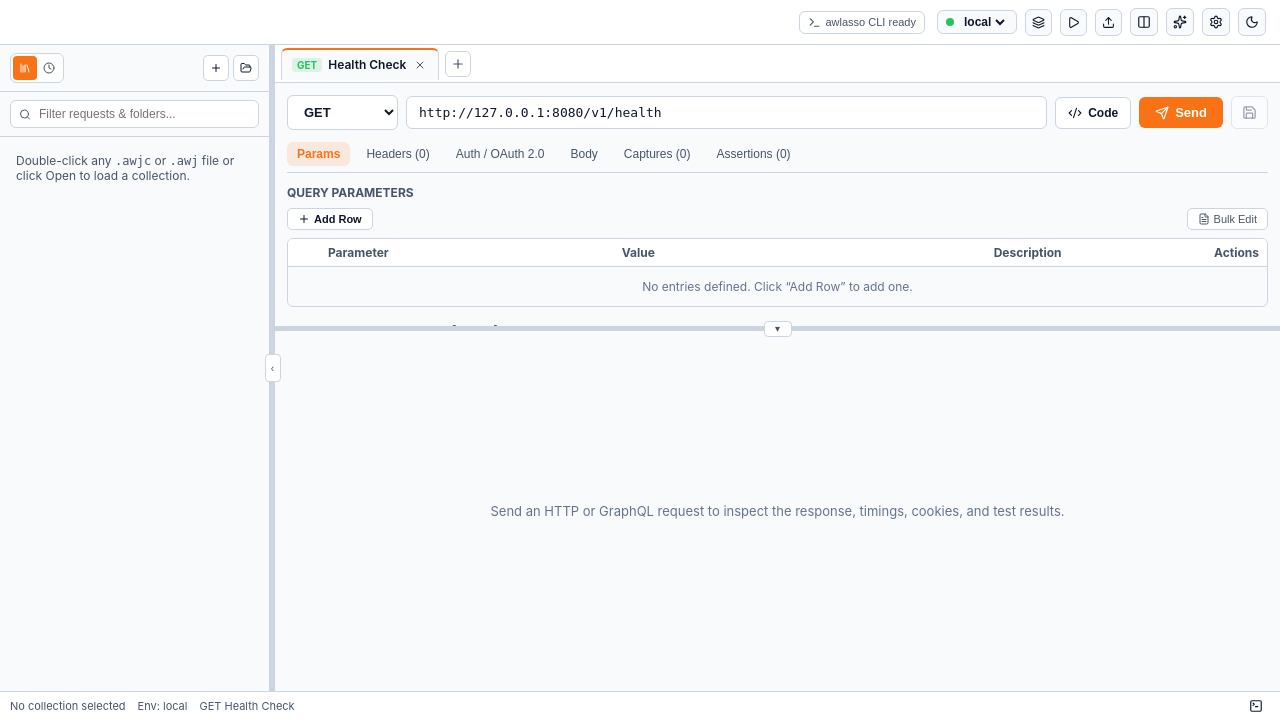
Test: App shell › opens Postman imports from the toolbar and the native menu as unsaved collections
What coordinates should you click on to do the following:
click the button with test id "toolbar-import-btn"
I would click on:
 (1108, 22)
Its box is [1095, 8, 1122, 36].
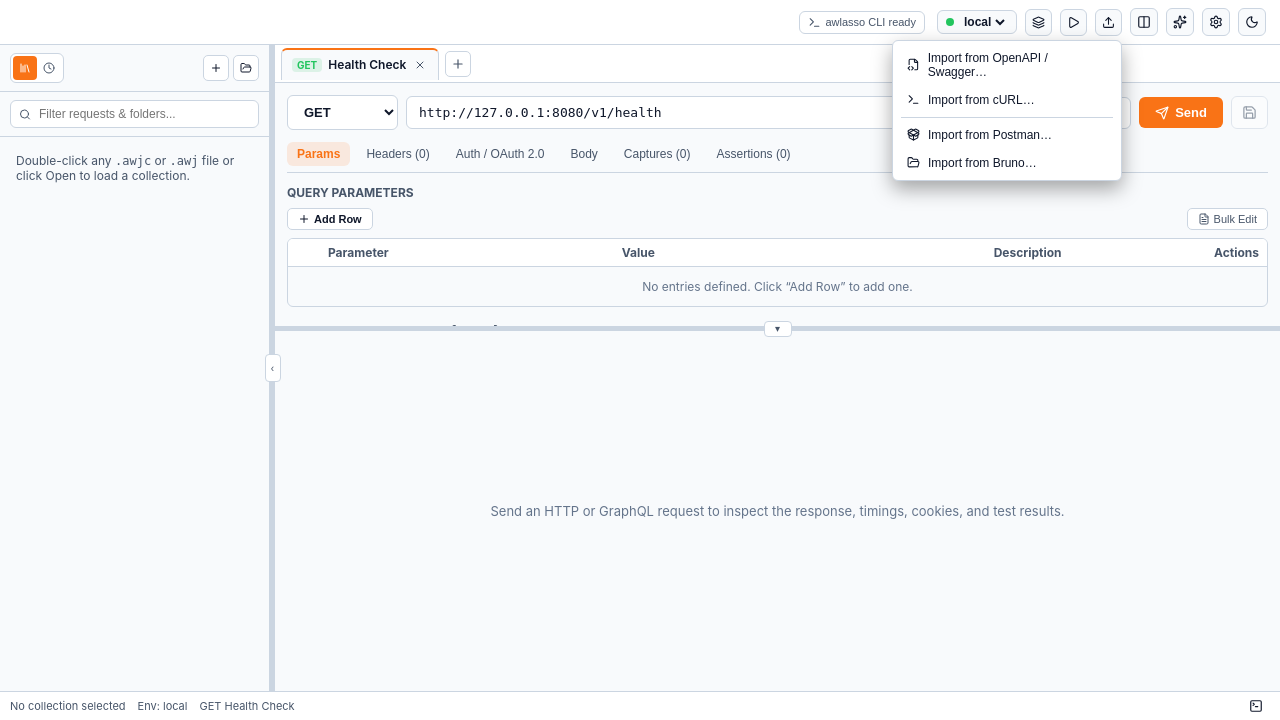
What coordinates should you click on to do the following:
click the button with test id "import-postman-btn"
I would click on:
 (1007, 134)
Its box is [897, 122, 1117, 148].
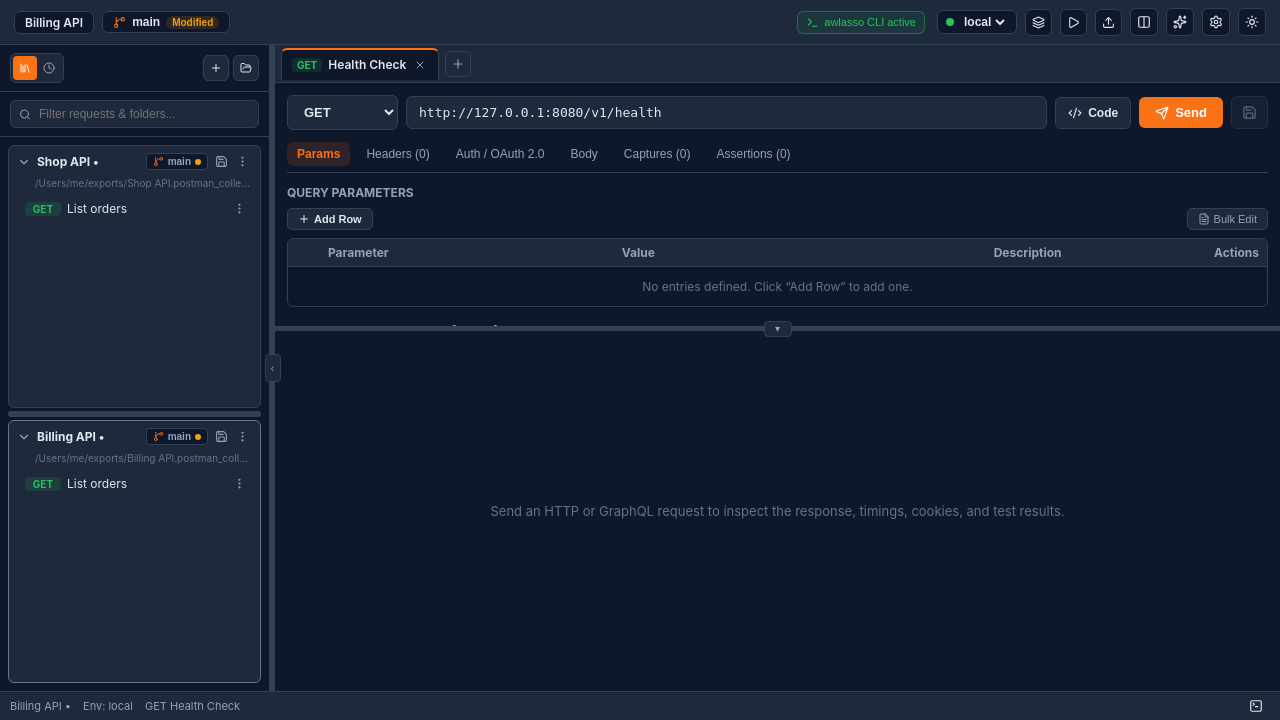
expect the list with test id "collection-list" shows "Shop API": met, box [37, 154, 90, 169]
expect the list with test id "collection-list" shows "Billing API": met, box [37, 429, 96, 444]
